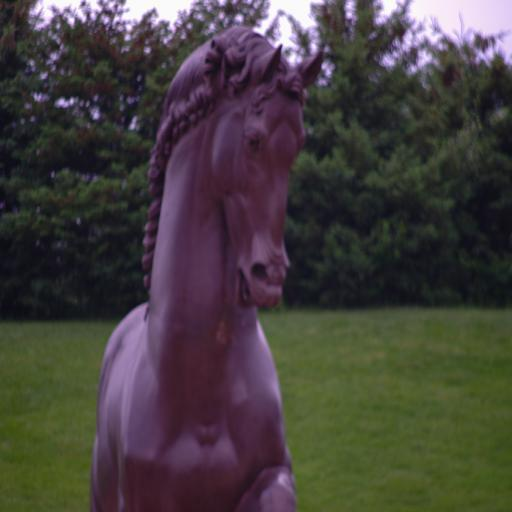horse: (88, 22, 324, 512)
